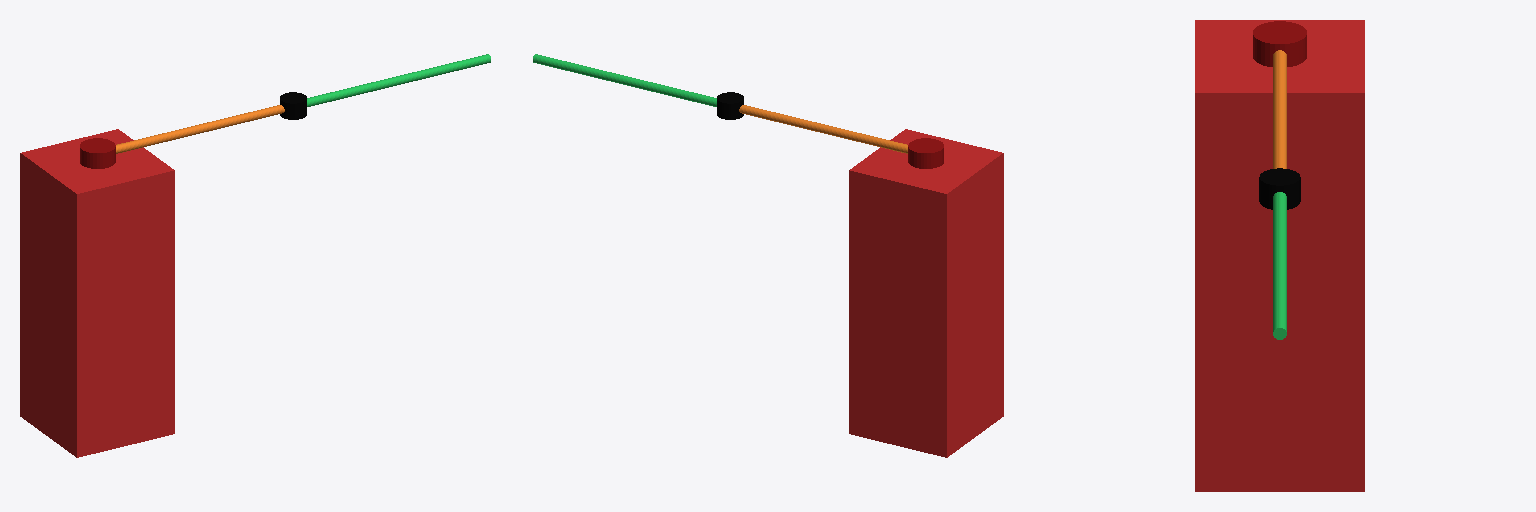
The robot description file, URDF, robot "2dof_planar_manipulator":
<?xml version="1.0"?>
<robot name="2dof_planar_manipulator">
  
  <!-- ============================================ -->
  <!-- WORLD/BASE LINK (Fixed reference frame)      -->
  <!-- ============================================ -->
  <link name="world"/>
  
  <!-- ============================================ -->
  <!-- MANIPULATOR MOUNTING BOX                     -->
  <!-- ============================================ -->
  <!-- Mounting box for manipulator base - Ground mounted pillar -->
  <joint name="mount_box_joint" type="fixed">
    <parent link="world"/>
    <child link="mount_box"/>
    <origin xyz="0 0 0" rpy="0 0 0"/>  <!-- Ground mounted -->
  </joint>
  
  <link name="mount_box">
    <visual>
      <origin xyz="0 0 0.64375" rpy="0 0 0"/>  <!-- Shift geometry up by half height -->
      <geometry>
        <box size="0.5 0.5 1.2875"/>  <!-- Height to match rail system -->
      </geometry>
      <material name="red">
        <color rgba="0.8 0.2 0.2 1"/>
      </material>
    </visual>
    <collision>
      <origin xyz="0 0 0.64375" rpy="0 0 0"/>  <!-- Shift geometry up by half height -->
      <geometry>
        <box size="0.5 0.5 1.2875"/>
      </geometry>
    </collision>
    <inertial>
      <mass value="100.0"/>  <!-- Heavy for stability -->
      <origin xyz="0 0 0.64375" rpy="0 0 0"/>  <!-- Center of mass at geometric center -->
      <inertia ixx="5.0" ixy="0" ixz="0" iyy="5.0" iyz="0" izz="0.5"/>
    </inertial>
  </link>

  <!-- ============================================ -->
  <!-- MANIPULATOR MOUNTING CYLINDER                -->
  <!-- ============================================ -->
  <!-- Cylinder extending from top of mount box to cart height -->
  <joint name="mount_cylinder_joint" type="fixed">
    <parent link="mount_box"/>
    <child link="mount_cylinder"/>
    <origin xyz="0 0 1.2875" rpy="0 0 0"/>  <!-- At top of mount box -->
  </joint>
  
  <link name="mount_cylinder">
    <visual>
      <origin xyz="0 0 0.03875" rpy="0 0 0"/>  <!-- Center at half of cylinder height -->
      <geometry>
        <cylinder radius="0.08" length="0.07625"/>  <!-- Small extension cylinder -->
      </geometry>
      <material name="dark_red">
        <color rgba="0.6 0.1 0.1 1"/>
      </material>
    </visual>
    <collision>
      <origin xyz="0 0 0.0375" rpy="0 0 0"/>
      <geometry>
        <cylinder radius="0.08" length="0.075"/>
      </geometry>
    </collision>
    <inertial>
      <mass value="0.5"/>
      <origin xyz="0 0 0.0375" rpy="0 0 0"/>
      <inertia ixx="0.001" ixy="0" ixz="0" iyy="0.001" iyz="0" izz="0.001"/>
    </inertial>
  </link>

  <!-- ===================================================== -->
  <!-- Revolute joint at the middle of the mount_cylinder     -->
  <!-- Rotation axis: +Z of the joint frame                   -->
  <!-- ===================================================== -->

  <joint name="manipulator_base_yaw" type="revolute">
    <parent link="mount_cylinder"/>
    <child link="manipulator_link_1"/>
    <!-- Middle of mount_cylinder: length 0.075 => half is 0.0375 -->
    <origin xyz="0 0 0.0375" rpy="0 0 0"/>
    <axis xyz="0 0 1"/>
    <!-- Example limits; adjust as needed -->
    <limit lower="-3.14159" upper="3.14159" effort="50" velocity="2.0"/>
    <dynamics damping="0.1" friction="0.0"/>
  </joint>

  <!-- =================================== -->
  <!-- Manipulator link 1: cylinder along +X -->
  <!-- =================================== -->

  <link name="manipulator_link_1">
    <visual>
      <!-- Cylinder axis aligned with +X; centered at x = L/2 -->
      <origin xyz="0.5 0 0" rpy="0 1.57079632679 0"/>
      <geometry>
        <cylinder radius="0.02" length="1.0"/>
      </geometry>
      <material name="link1_orange">
        <color rgba="0.95 0.55 0.2 1.0"/>
      </material>
    </visual>

    <collision>
      <!-- Match visual geometry and pose -->
      <origin xyz="0.5 0 0" rpy="0 1.57079632679 0"/>
      <geometry>
        <cylinder radius="0.02" length="1.0"/>
      </geometry>
    </collision>

    <inertial>
      <!-- COM at geometric center; inertial frame aligned with cylinder axis -->
      <origin xyz="0.5 0 0" rpy="0 1.57079632679 0"/>
      <mass value="0.3"/>
      <inertia ixx="0.002" ixy="0.0" ixz="0.0" iyy="0.002" iyz="0.0" izz="0.002"/>
    </inertial>
  </link>

  <!-- ============================== -->
  <!-- Joint at the end of link 1     -->
  <!-- Revolute yaw about +Z axis     -->
  <!-- ============================== -->
  <joint name="manipulator_joint_2_yaw" type="revolute">
    <parent link="manipulator_link_1"/>
    <child link="manipulator_link_2"/>
    <!-- end of link1: length = 1.0 along +X -->
    <origin xyz="1.0 0 0" rpy="0 0 0"/>
    <axis xyz="0 0 1"/>
    <limit lower="-3.14159" upper="3.14159" effort="50" velocity="2.0"/>
    <dynamics damping="0.1" friction="0.0"/>
  </joint>

  <!-- =============================== -->
  <!-- Visual element for Joint 2      -->
  <!-- (marker link attached with fixed joint) -->
  <!-- Small cylinder along +Z         -->
  <!-- =============================== -->
  <link name="joint2_visual">
    <visual>
      <origin xyz="0 0 0" rpy="0 0 0"/>
      <geometry>
        <cylinder radius="0.06" length="0.08"/>
      </geometry>
      <material name="joint_marker_black">
        <color rgba="0.05 0.05 0.05 1.0"/>
      </material>
    </visual>
  </link>

  <!-- Attach the joint-2 visual marker at the SAME pose as manipulator_joint_2_yaw -->
  <joint name="joint2_visual_fixed" type="fixed">
    <parent link="manipulator_link_1"/>
    <child link="joint2_visual"/>
    <origin xyz="1.0 0 0" rpy="0 0 0"/>
  </joint>

  <!-- =================================== -->
  <!-- Manipulator link 2: cylinder along +X -->
  <!-- length = 1.0                         -->
  <!-- =================================== -->
  <link name="manipulator_link_2">
    <visual>
      <!-- center at x=L/2, rotate +Z -> +X -->
      <origin xyz="0.5 0 0" rpy="0 1.57079632679 0"/>
      <geometry>
        <cylinder radius="0.02" length="1.0"/>
      </geometry>
      <material name="link2_green">
        <color rgba="0.2 0.8 0.4 1.0"/>
      </material>
    </visual>

    <collision>
      <origin xyz="0.5 0 0" rpy="0 1.57079632679 0"/>
      <geometry>
        <cylinder radius="0.02" length="1.0"/>
      </geometry>
    </collision>

    <inertial>
      <origin xyz="0.5 0 0" rpy="0 1.57079632679 0"/>
      <mass value="0.3"/>
      <inertia ixx="0.002" ixy="0" ixz="0" iyy="0.002" iyz="0" izz="0.002"/>
    </inertial>
  </link>

  <!-- ============================= -->
  <!-- END-EFFECTOR FRAME            -->
  <!-- ============================= -->
  <!-- End-effector frame at tip of manipulator_link_2 -->
  <link name="manipulator_ee"/>
  <joint name="manipulator_ee_fixed" type="fixed">
    <parent link="manipulator_link_2"/>
    <child link="manipulator_ee"/>
    <origin xyz="1.0 0 0" rpy="0 0 0"/>
  </joint>

</robot>

--- What the picture shows (computed from the rendered views, not written in the file) ---
3 views of the same robot in one strip: view 1: azimuth 30°, elevation 25°; view 2: azimuth 150°, elevation 25°; view 3: azimuth 270°, elevation 25° (orthographic).
Robot: 2dof_planar_manipulator — 7 links, 6 joints (2 revolute, 4 fixed); root link world; default pose: all joints at 0.
Visible links, largest first — view 1: mount_box, manipulator_link_2, manipulator_link_1, mount_cylinder, joint2_visual; view 2: mount_box, manipulator_link_2, manipulator_link_1, mount_cylinder, joint2_visual; view 3: mount_box, manipulator_link_2, mount_cylinder, manipulator_link_1, joint2_visual.
Link boxes in pixels (left/top/right/bottom): mount_box: left=20, top=129, right=174, bottom=457; manipulator_link_2: left=307, top=54, right=490, bottom=106; manipulator_link_1: left=116, top=105, right=284, bottom=153; mount_cylinder: left=80, top=138, right=115, bottom=168; joint2_visual: left=280, top=92, right=306, bottom=119; mount_box: left=849, top=129, right=1003, bottom=457; manipulator_link_2: left=533, top=54, right=716, bottom=106; manipulator_link_1: left=739, top=105, right=907, bottom=153; mount_cylinder: left=908, top=138, right=943, bottom=168; joint2_visual: left=717, top=92, right=743, bottom=119; mount_box: left=1195, top=20, right=1364, bottom=491; manipulator_link_2: left=1273, top=192, right=1286, bottom=339; mount_cylinder: left=1253, top=21, right=1306, bottom=66; manipulator_link_1: left=1273, top=50, right=1286, bottom=168; joint2_visual: left=1259, top=168, right=1300, bottom=209.
Bounding box of the posed robot: 2.25 × 0.5 × 1.36 m (x, y, z).
Geometry: primitives only (box / cylinder / sphere), no mesh files.